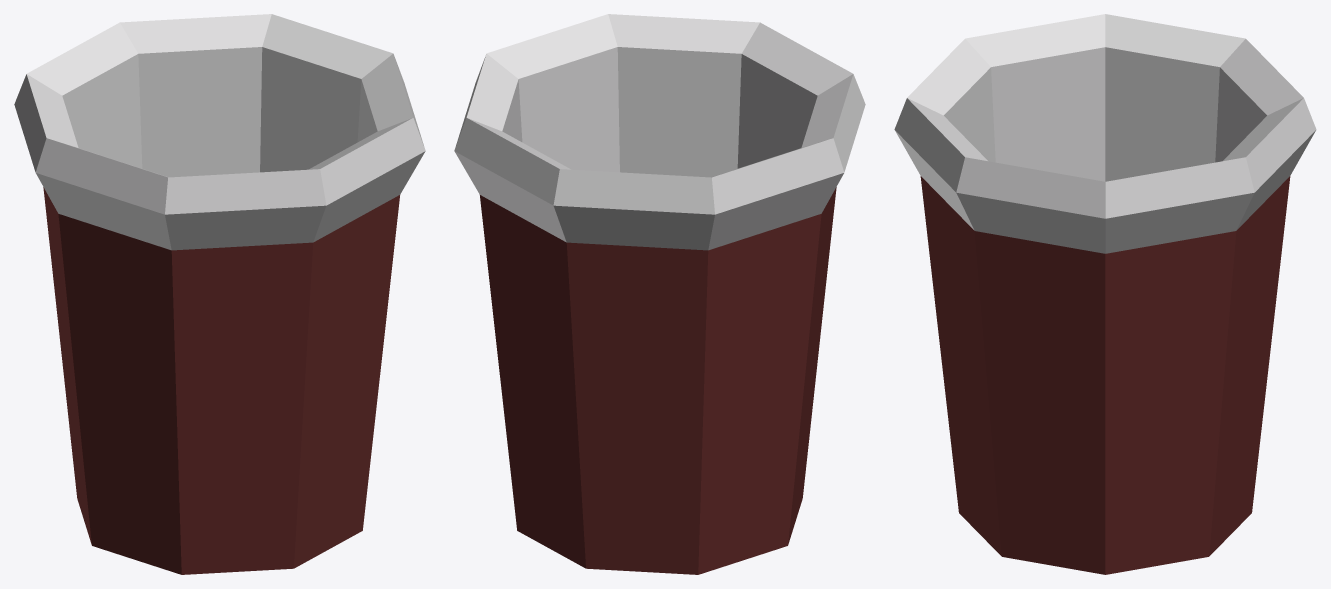
The model's file is SM_Cup_01.glb.
3 views of the same model, side by side, from view 1: azimuth 30°, elevation 25°; view 2: azimuth 150°, elevation 25°; view 3: azimuth 270°, elevation 25° (orthographic).
Visible parts, largest first — view 1: SM_Cup_01; view 2: SM_Cup_01; view 3: SM_Cup_01.
Boxes of the visible parts, x1,y1,x2,y2 form: SM_Cup_01: (14,14,425,574); SM_Cup_01: (454,14,865,574); SM_Cup_01: (894,14,1316,574).
Size of the model in its own units: 0.1412 by 0.1533 by 0.1412.
1 material, 1 textured.
